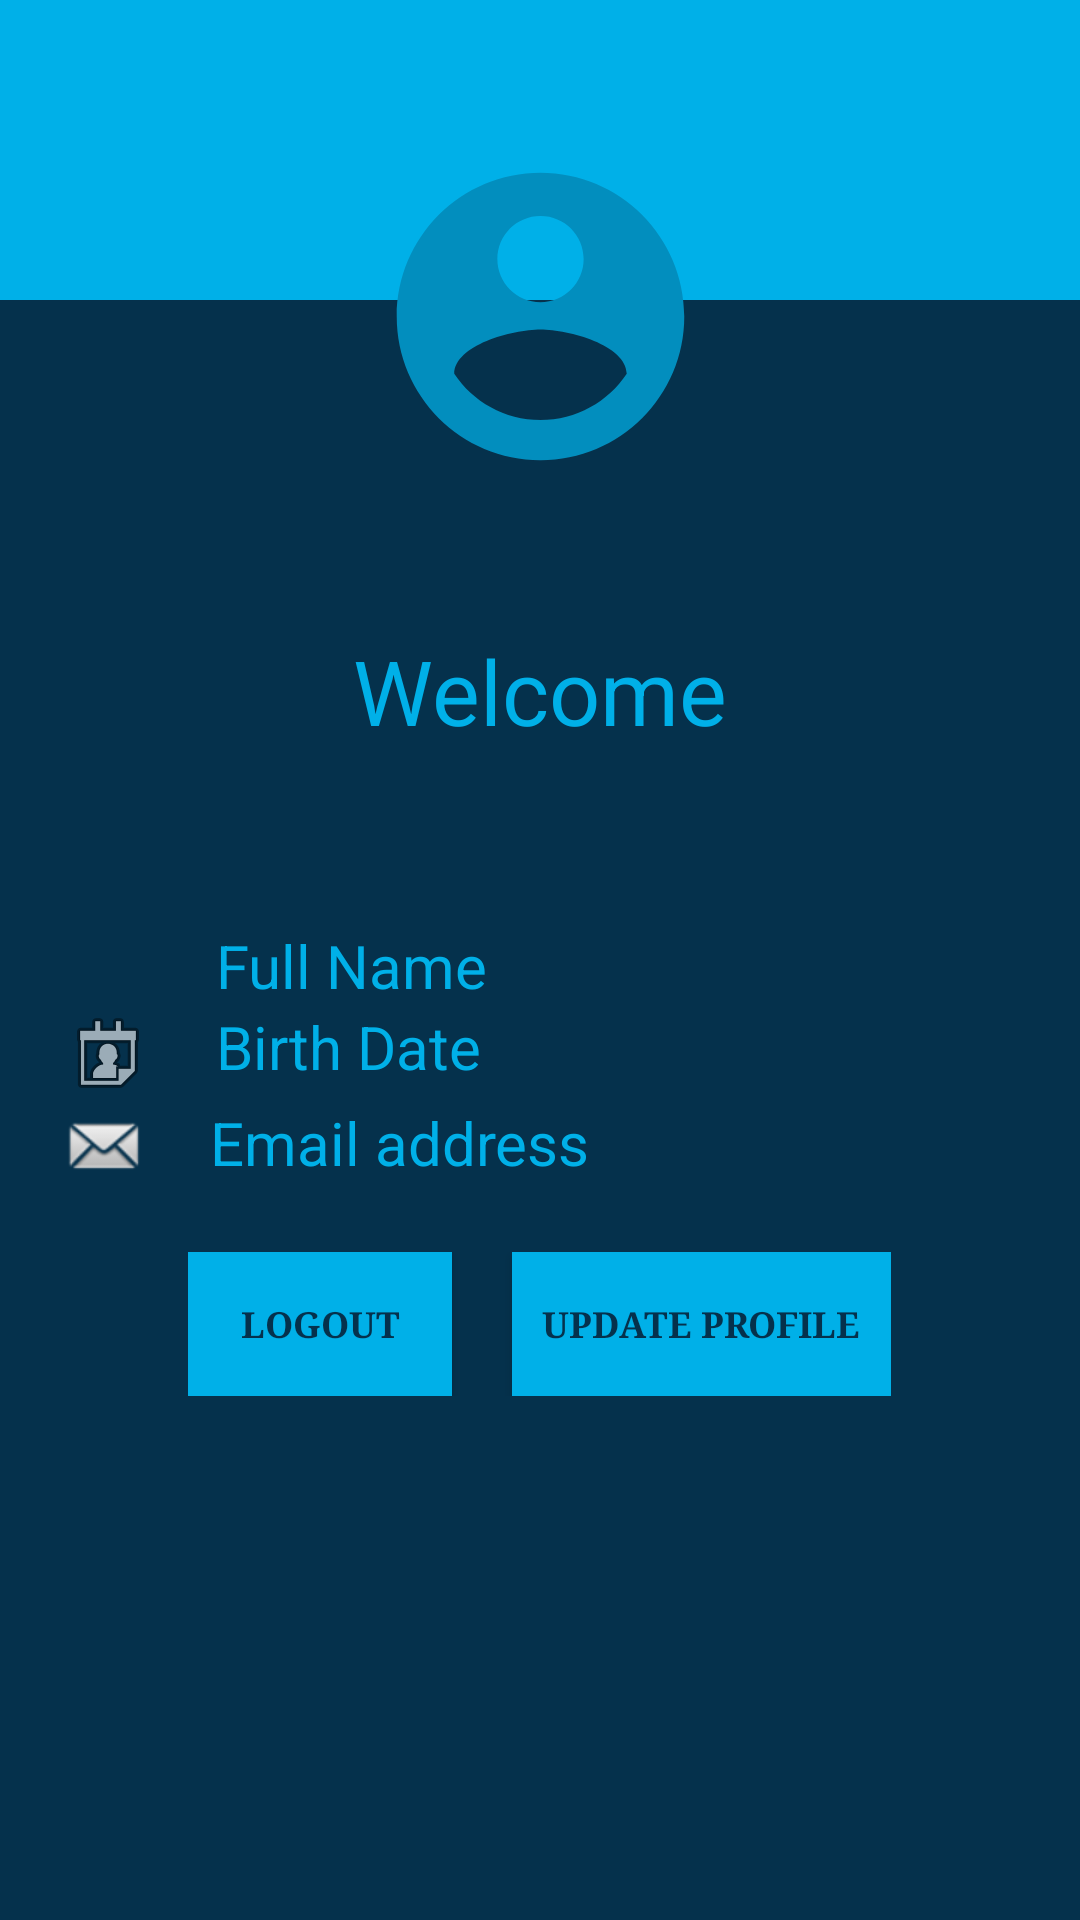

Screen size 1080px×1920px. Icon name, then its center in pixels as point (x, y):
account circle: point (540, 316)
calendar: point (108, 1053)
sym action email: point (104, 1146)
